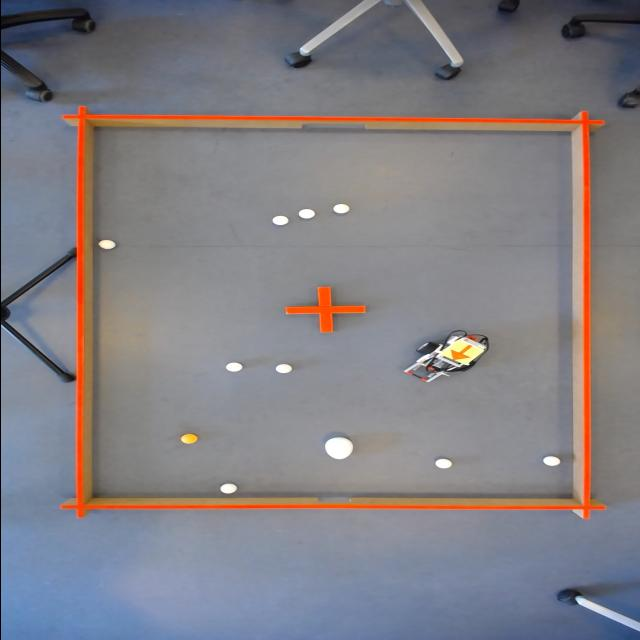cross: (282, 285, 367, 334)
egg: (318, 435, 354, 461)
orange_ball: (176, 433, 200, 445)
robot: (437, 339, 486, 367)
white_ball: (94, 237, 118, 251), (328, 202, 352, 216), (270, 362, 294, 376), (218, 360, 244, 372), (214, 482, 240, 494), (540, 454, 564, 467), (432, 458, 454, 471), (294, 207, 319, 218), (268, 216, 290, 228)
